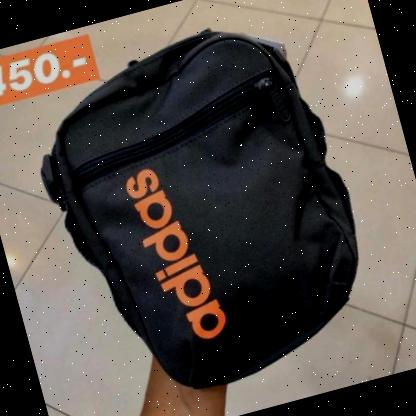bag: (7, 5, 396, 416)
